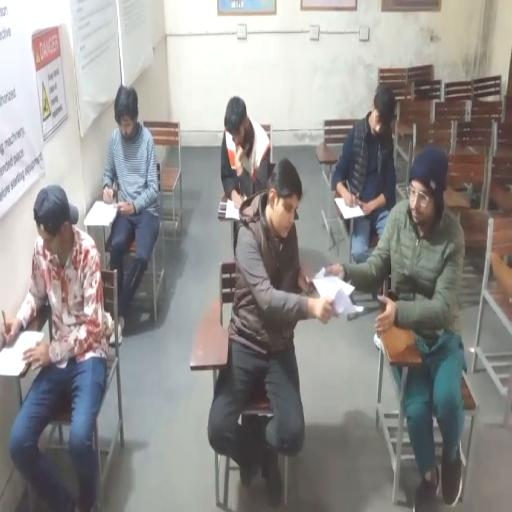paper: (0, 329, 43, 375), (310, 274, 354, 306), (84, 200, 118, 227), (334, 196, 366, 220), (334, 301, 362, 320), (224, 199, 243, 221)
